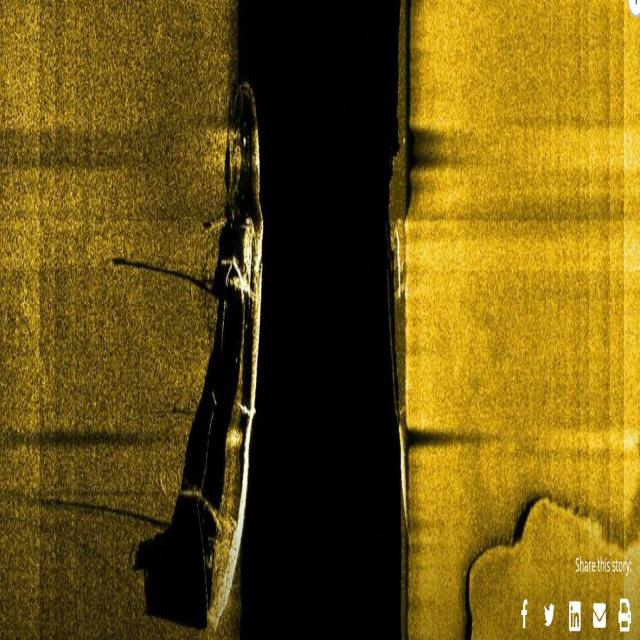ship: (203, 64, 266, 626)
